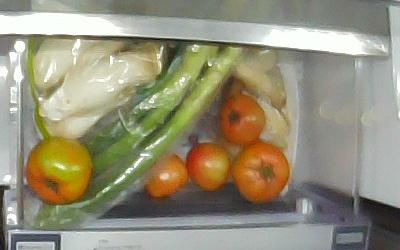tomato: (25, 138, 92, 204), (232, 143, 291, 203), (219, 93, 266, 144), (186, 142, 231, 191), (141, 150, 187, 196)
